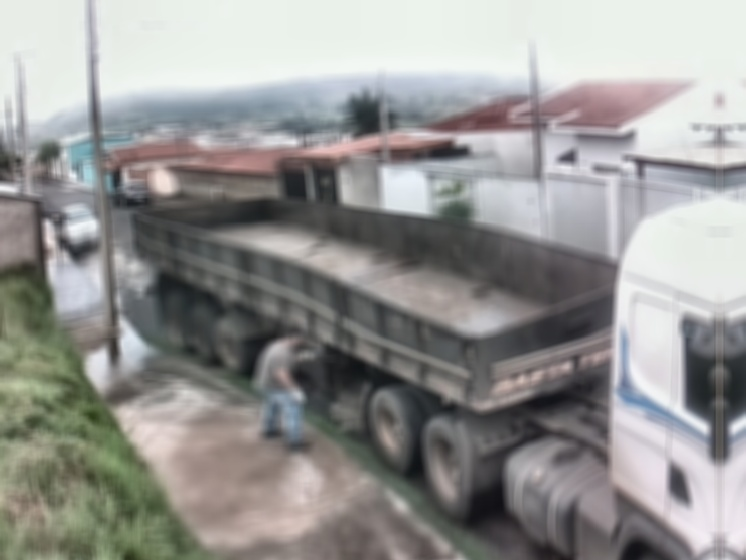person: (252, 321, 316, 454)
